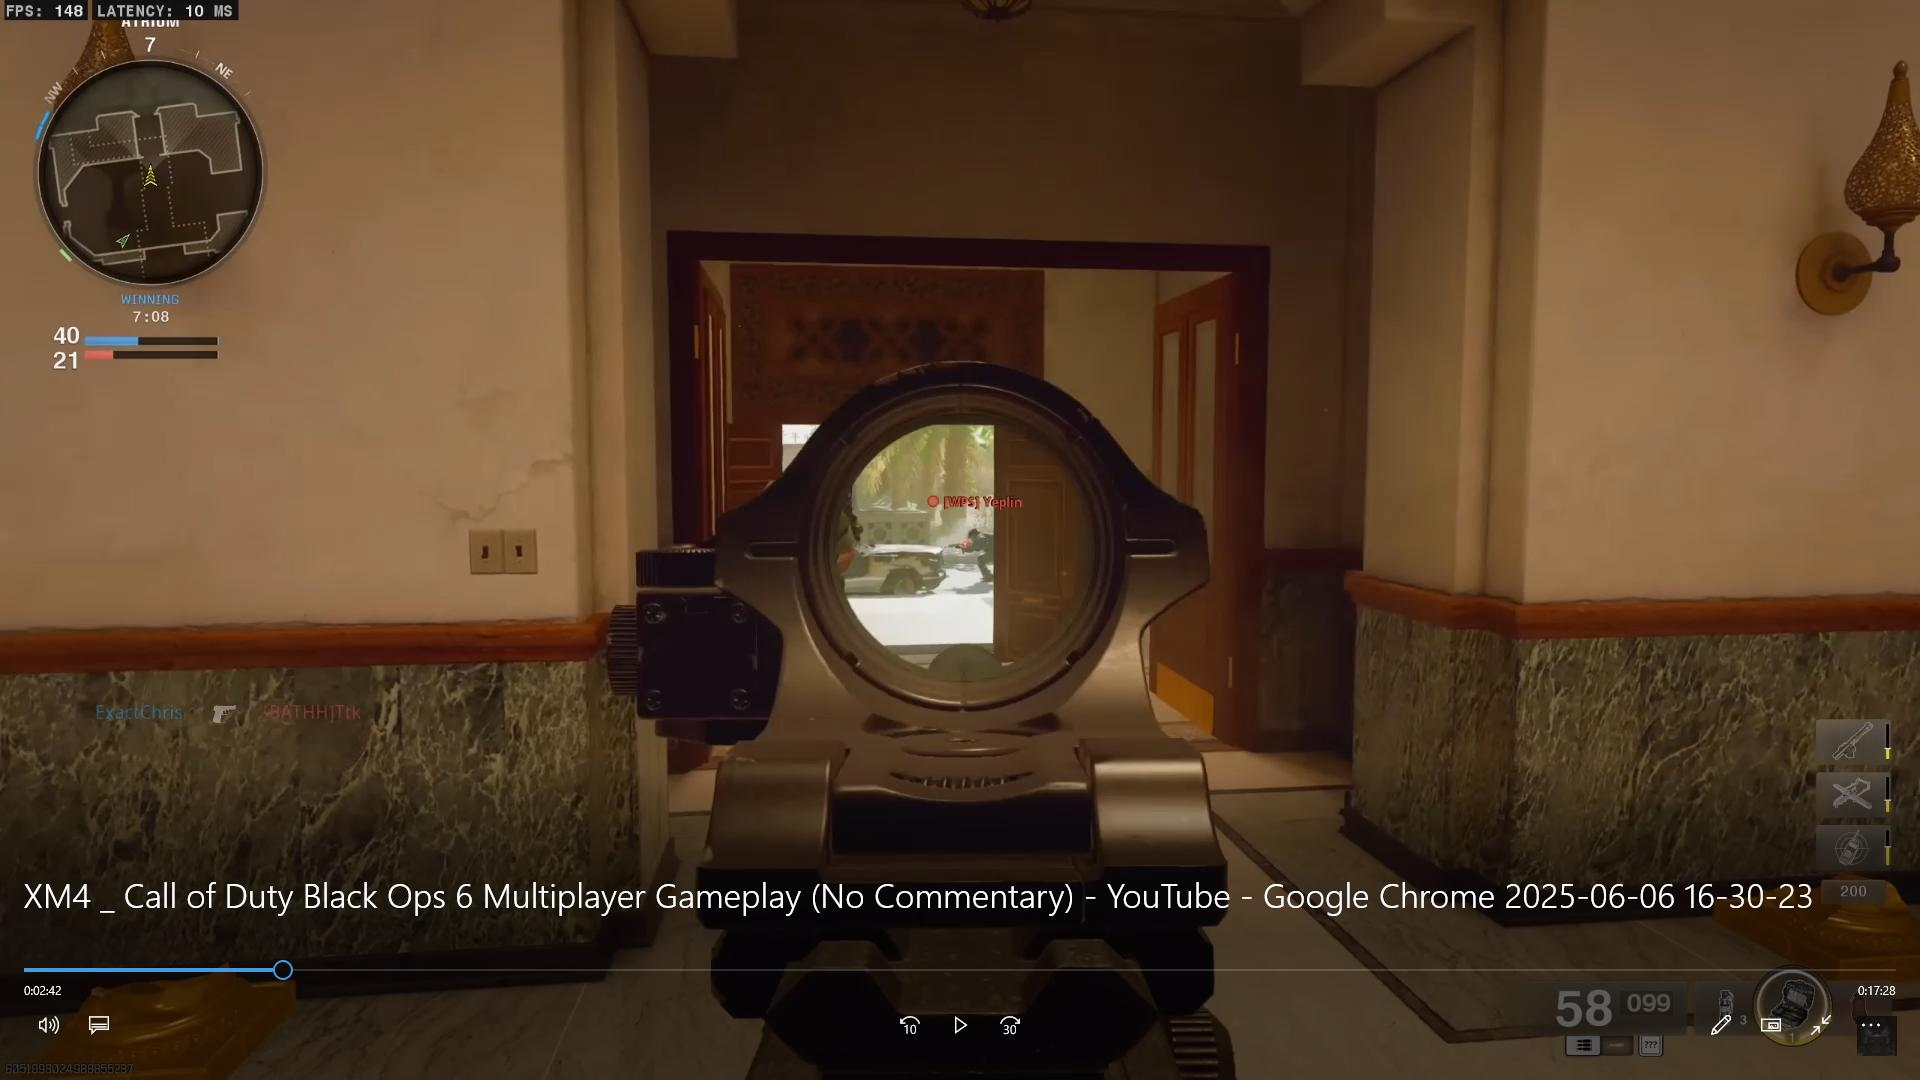Enemy: (928, 487, 994, 599)
